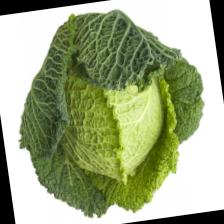cabbage: (0, 0, 218, 224)
